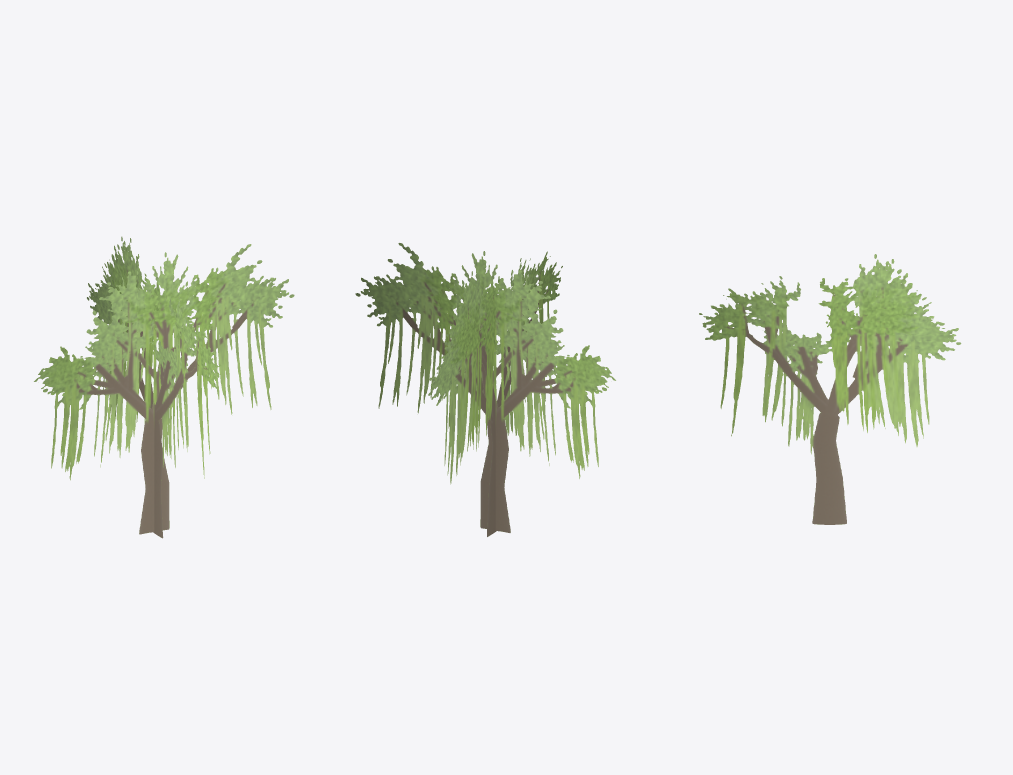
File: willow_1_far.glb
3 views of the same model, side by side, from view 1: azimuth 30°, elevation 25°; view 2: azimuth 150°, elevation 25°; view 3: azimuth 270°, elevation 25° (orthographic). The views are drawn at different scales.
Visible parts, largest first — view 1: willow_1_far; view 2: willow_1_far; view 3: willow_1_far.
Part boxes in pixels (x1,y1,x2,y2): willow_1_far: (34, 236, 294, 538); willow_1_far: (355, 243, 615, 536); willow_1_far: (699, 254, 961, 524).
Size of the model in its own units: 9.44 by 18.87 by 9.44.
1 material, 1 textured.
